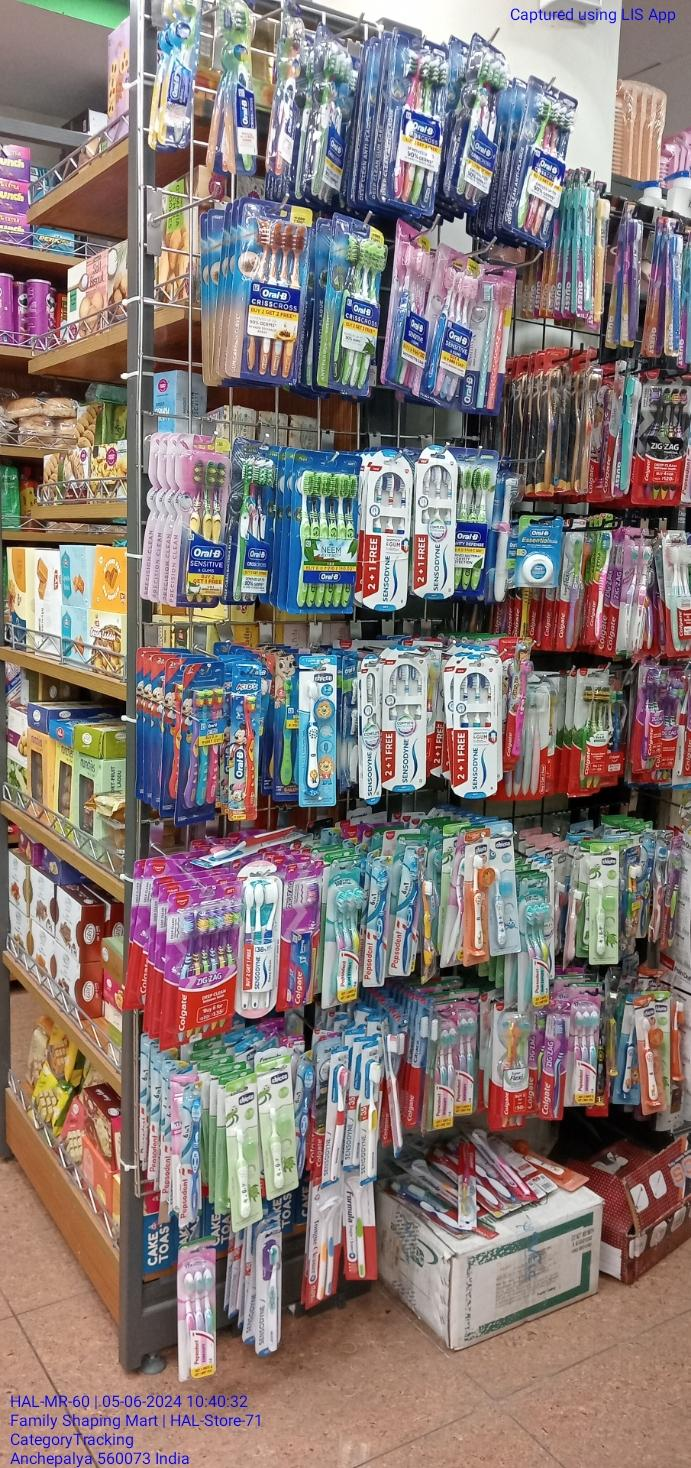10: (388, 230, 426, 393), (433, 247, 464, 407)
11: (324, 861, 361, 1009), (519, 877, 551, 1010)
12: (175, 1243, 216, 1376), (567, 984, 596, 1105), (427, 1016, 454, 1129), (456, 991, 476, 1115)
16: (364, 449, 408, 612), (450, 650, 496, 798)
4: (413, 446, 456, 600), (384, 646, 428, 789)
5: (239, 862, 279, 1018)
9: (222, 6, 254, 174)
liquid soap: (641, 382, 684, 503)
